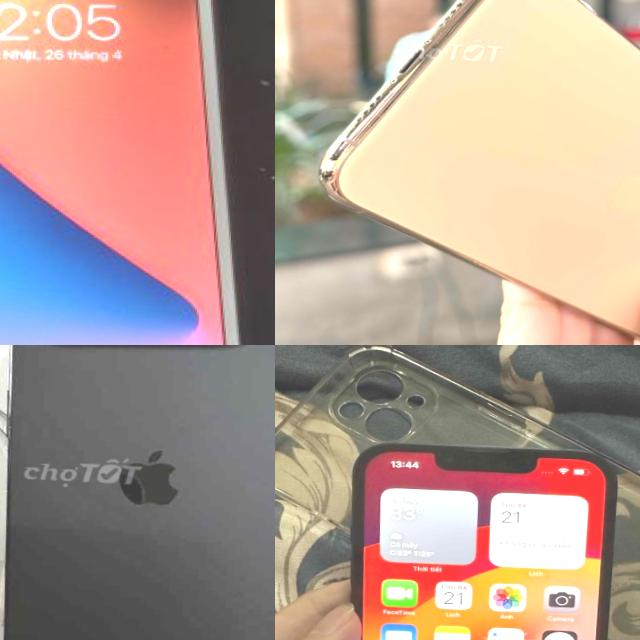gen_11: (302, 0, 640, 345)
gen_12_13: (321, 431, 638, 640)
gen_17: (0, 345, 275, 640)
gen_6: (0, 0, 275, 345)
